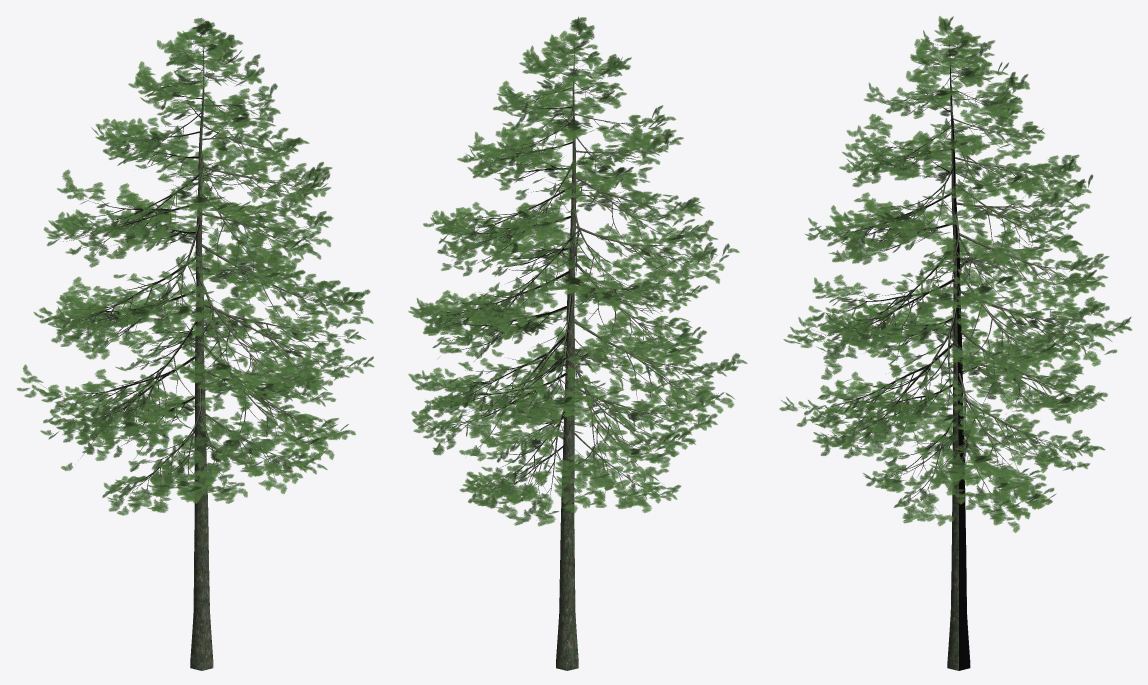
Rendered from bk_douglas_fir_summer_lod1.glb.
3 views of the same model, side by side, from view 1: azimuth 30°, elevation 25°; view 2: azimuth 150°, elevation 25°; view 3: azimuth 270°, elevation 25° (orthographic).
Visible parts, largest first — view 1: foliage, branches; view 2: foliage, branches; view 3: foliage, branches.
Part boxes in pixels (box(x1,y1,x2,y2)): foliage: box(17, 18, 374, 515); branches: box(37, 36, 355, 670); foliage: box(408, 16, 747, 526); branches: box(429, 33, 725, 670); foliage: box(779, 16, 1131, 532); branches: box(801, 29, 1112, 670).
Bounding box in the file's own units: 12.92 × 25.44 × 12.64.
Materials: 2 (2 with a texture image).
